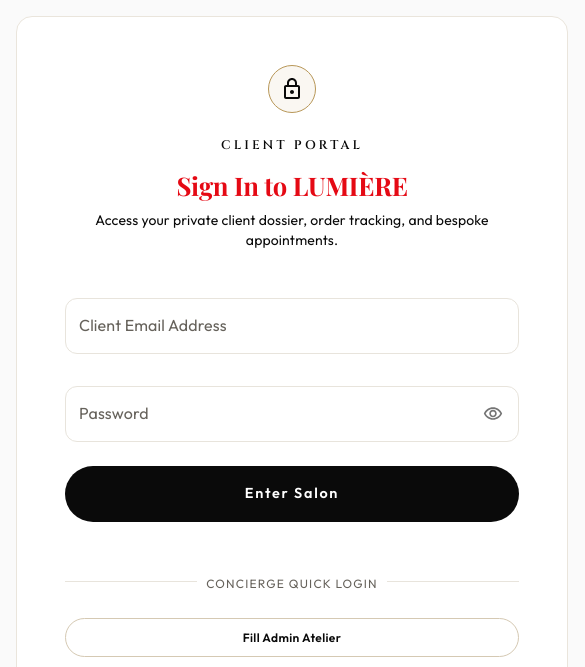
Test: Stage 7B.5: Fail-Closed Authentication & Protected Route Security › 3. Invalid credentials do not activate demo login and leave user unauthenticated
Type "admin@ecommerce.com" into the field labelled "Client Email Address".
click(292, 326); type("admin@ecommerce.com")  # box [65, 298, 519, 354]
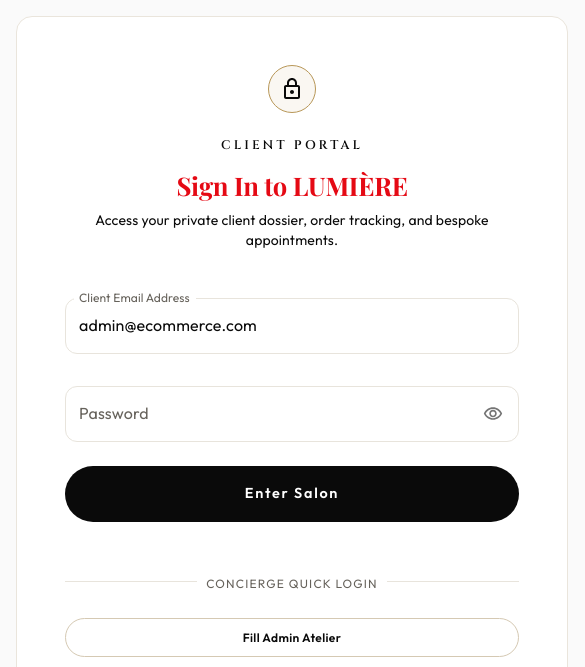
Type "wrongpassword" into the password field labelled "Password".
click(268, 414); type("wrongpassword")  # box [65, 386, 470, 442]
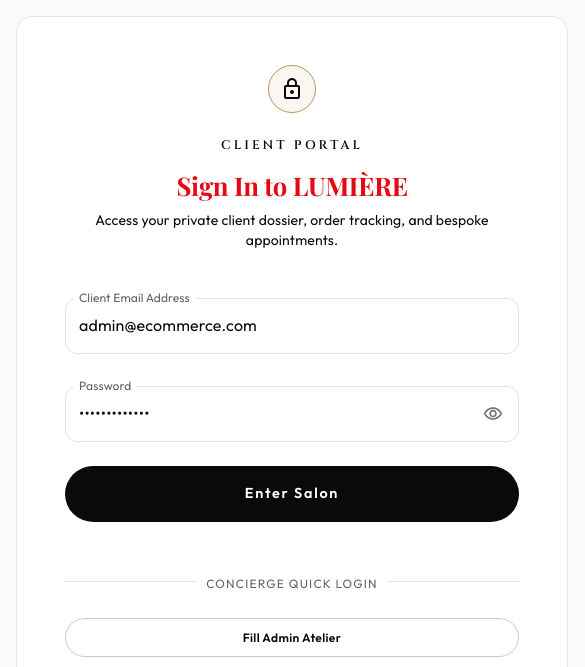
Click the button "Enter Salon".
click(292, 494)  # box [65, 466, 519, 522]
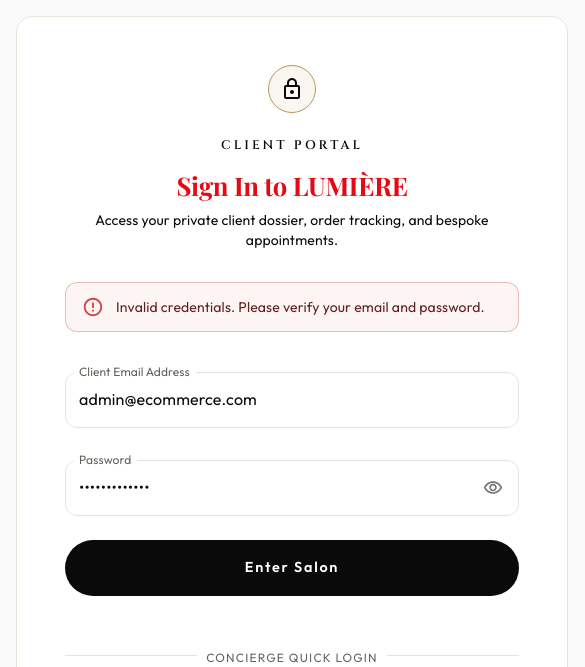
Check: the text "Invalid credentials. Please verify your email and password." is shown, box [116, 298, 485, 316]
